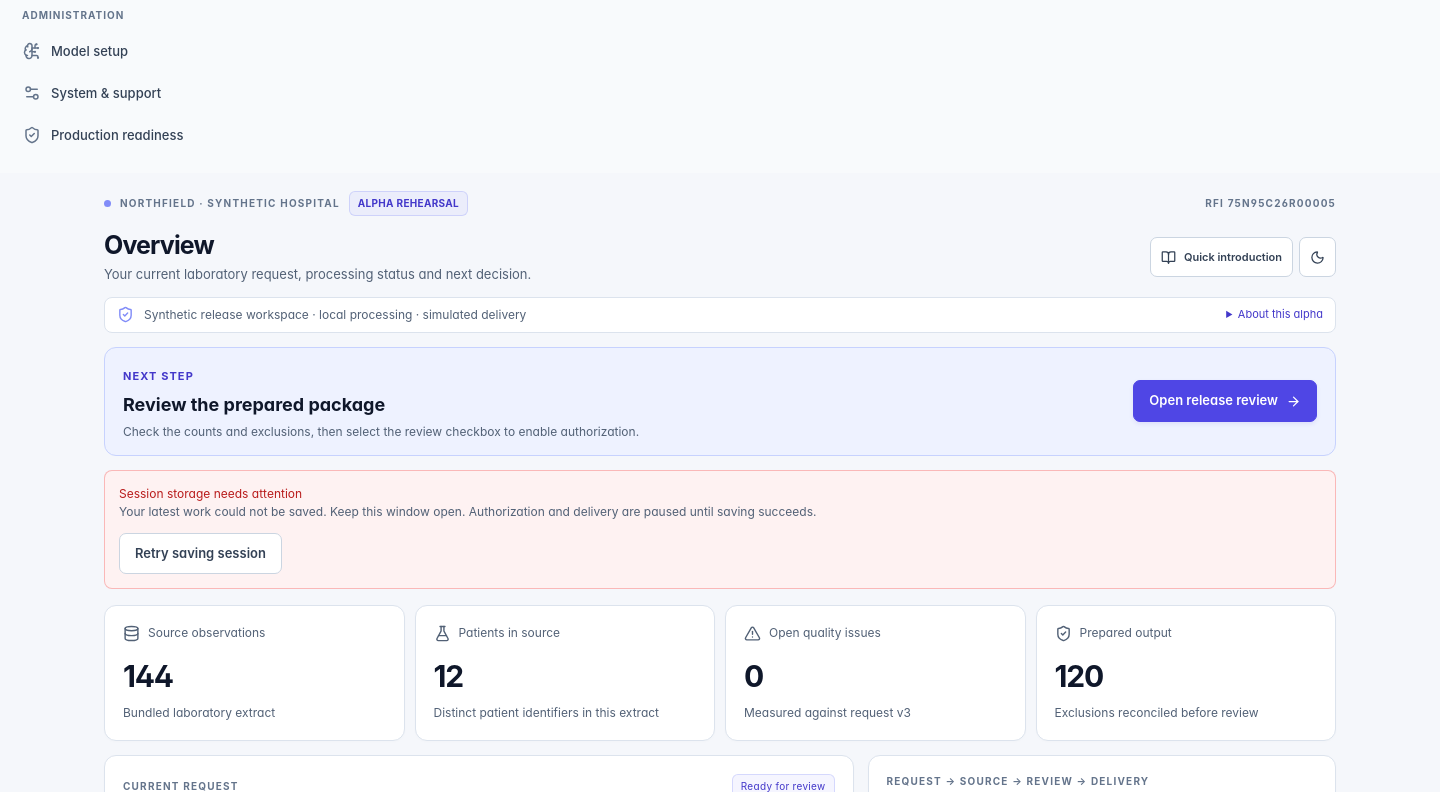
Test: pauses authorization on save failure and resumes after successful retry
(page scrolled)
Click the button "Open release review" at (1225, 401), box x1=1133 y1=380 x2=1317 y2=422
(page scrolled)
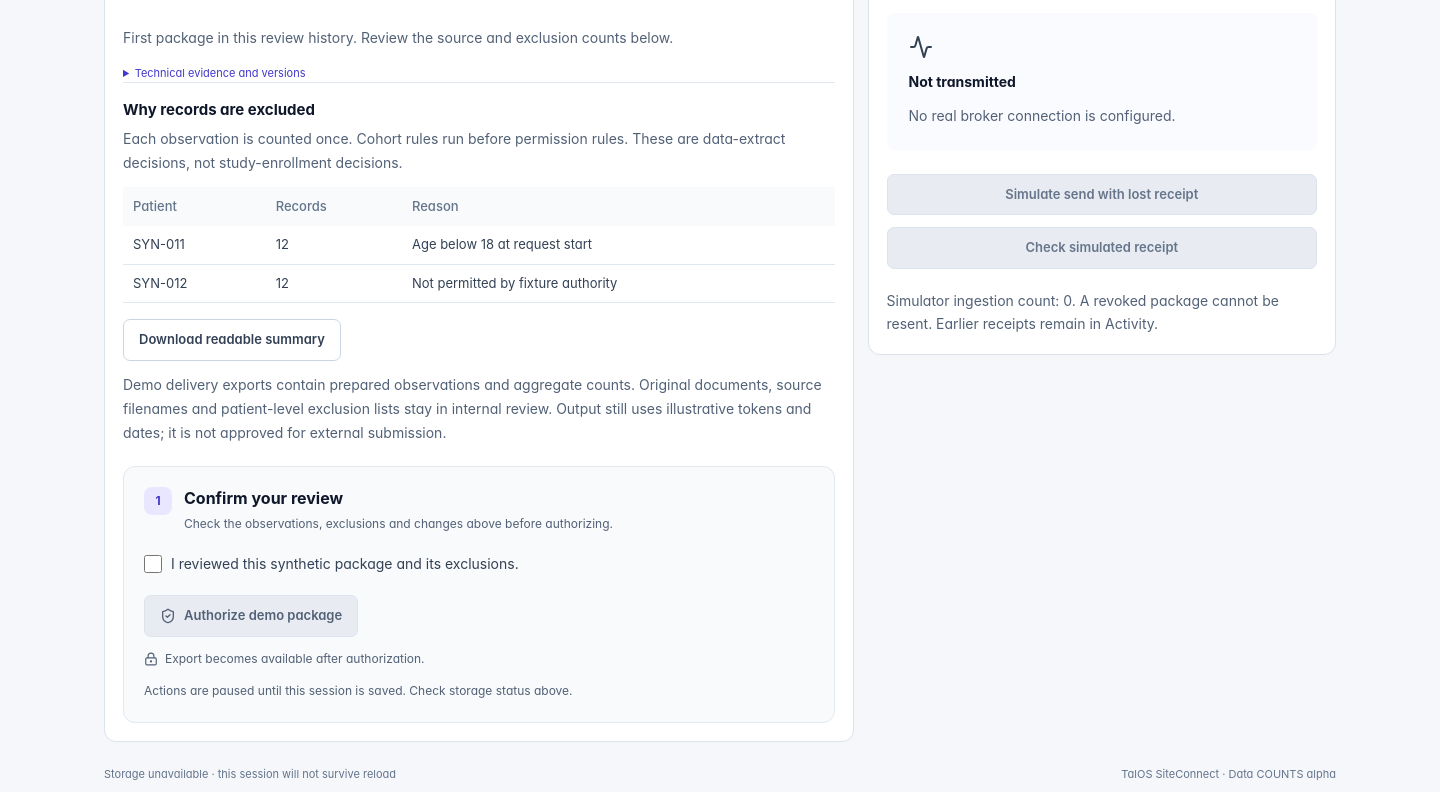
Click the checkbox at (153, 564), box x1=144 y1=555 x2=162 y2=573
(page scrolled)
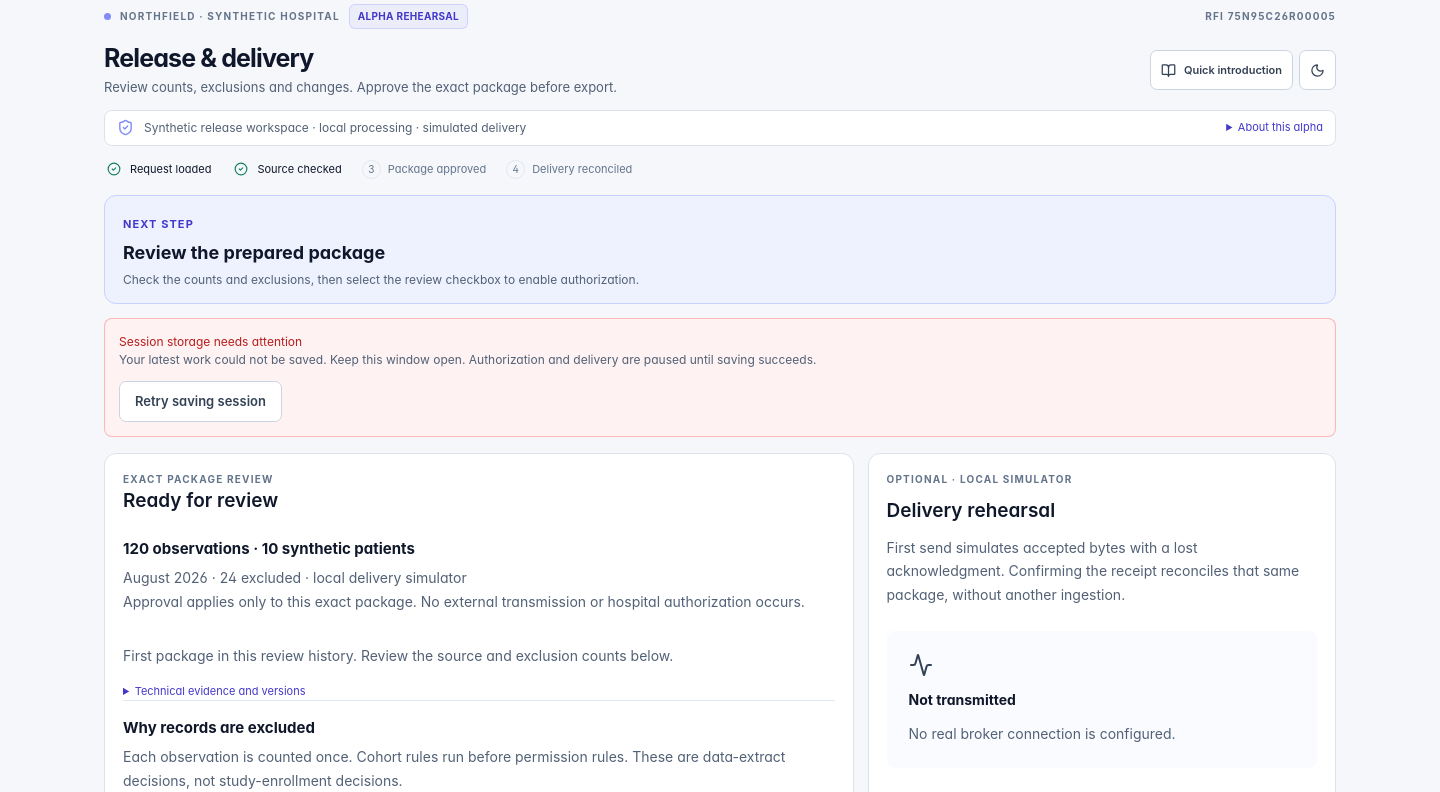
Click the button "Retry saving session" at (200, 401), box x1=119 y1=380 x2=282 y2=422
(page scrolled)
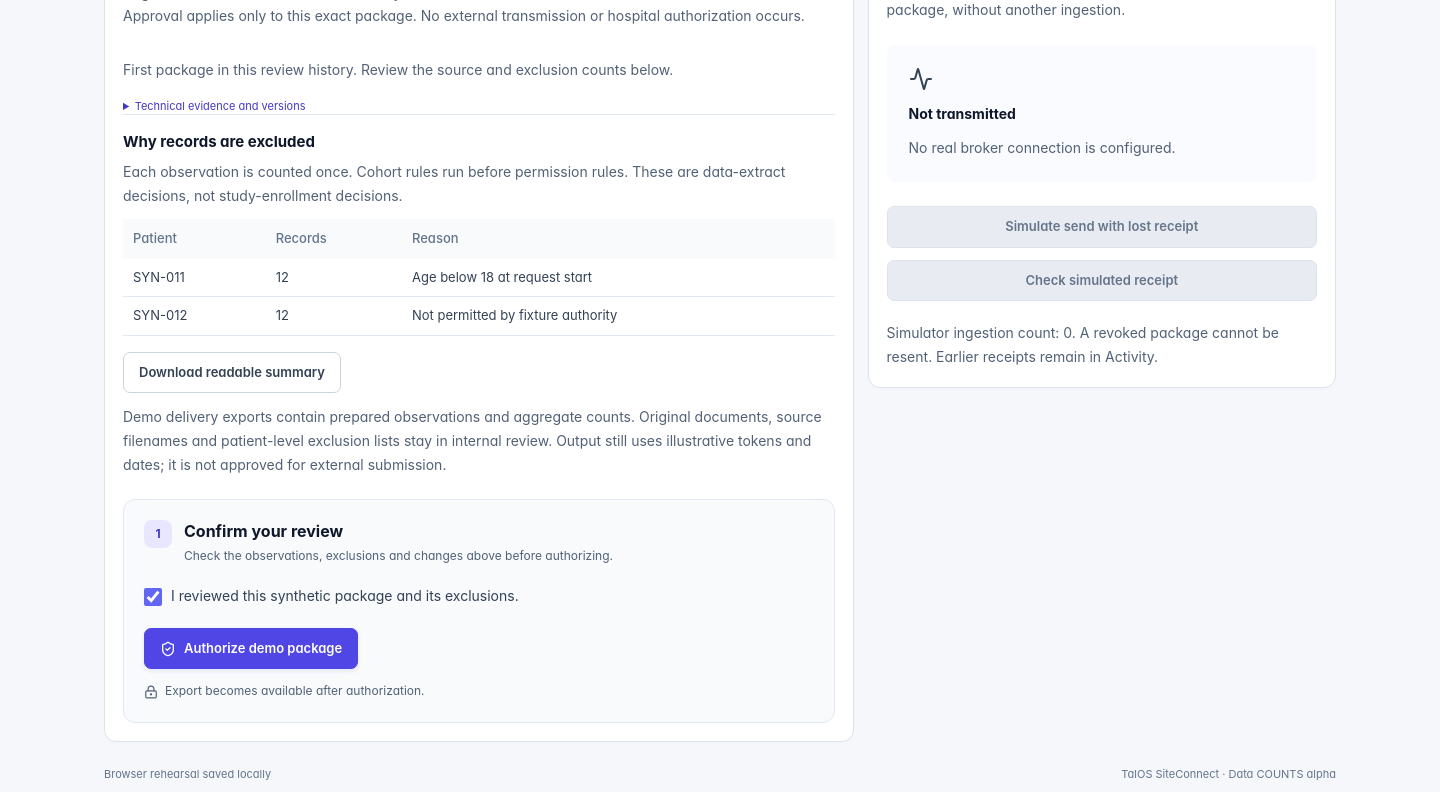
Now the button "Authorize demo package" is enabled, box x1=144 y1=628 x2=358 y2=669
